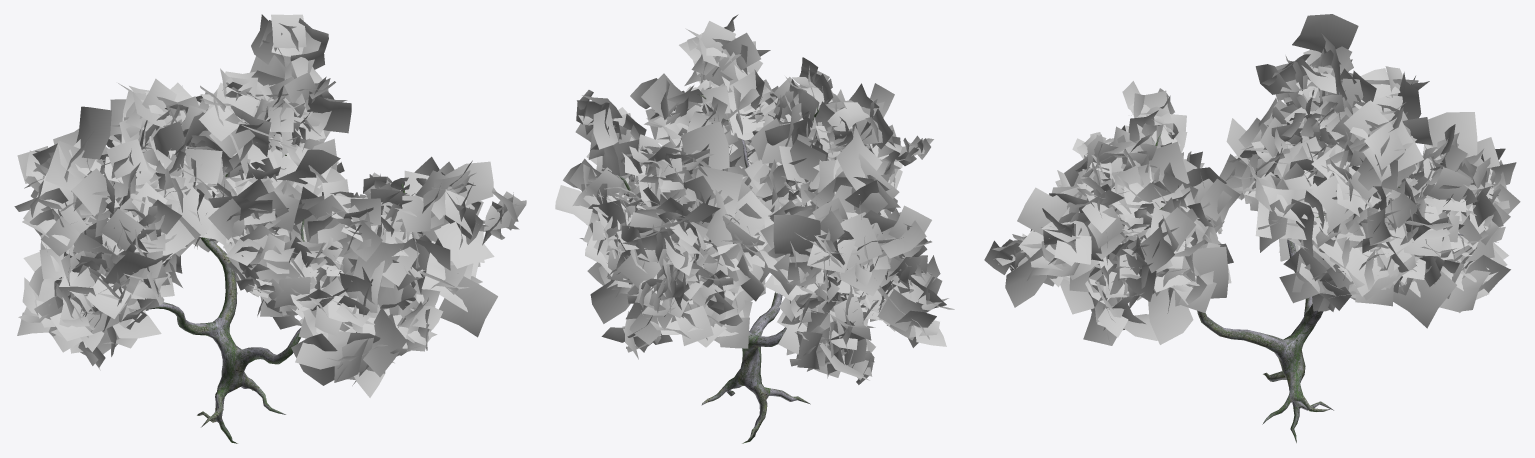
File: Tree20.fbx
3 views of the same model, side by side, from view 1: azimuth 30°, elevation 25°; view 2: azimuth 150°, elevation 25°; view 3: azimuth 270°, elevation 25° (orthographic). The views are drawn at different scales.
Parts seen in each view (by area): view 1: tree20, tree20|branch20-2|Dupli|7, tree20|branch20-3|Dupli|74, tree20|branch20-3|Dupli|77, tree20|branch20-3|Dupli|26, tree20|branch20-3|Dupli|128, tree20|branch20-2|Dupli|124, tree20|branch20-1|Dupli|96, tree20|branch20-2|Dupli|139, tree20|branch20-2|Dupli|52, tree20|branch20-2|Dupli|34, tree20|branch20-3|Dupli|2 (+51 smaller); view 2: tree20|branch20-3|Dupli|125, tree20|branch20-3|Dupli|128, tree20, tree20|branch20-1|Dupli|75, tree20|branch20-1|Dupli|96, tree20|branch20-2|Dupli|7, tree20|branch20-2|Dupli|106, tree20|branch20-1|Dupli|114, tree20|branch20-3|Dupli|116, tree20|branch20-2|Dupli|100, tree20|branch20-3|Dupli|158, tree20|branch20-2|Dupli|67 (+63 smaller); view 3: tree20, tree20|branch20-2|Dupli|7, tree20|branch20-3|Dupli|170, tree20|branch20-3|Dupli|128, tree20|branch20-3|Dupli|8, tree20|branch20-2|Dupli|79, tree20|branch20-2|Dupli|169, tree20|branch20-3|Dupli|74, tree20|branch20-1|Dupli|63, tree20|branch20-1|Dupli|75, tree20|branch20-1|Dupli|96, tree20|branch20-2|Dupli|124 (+55 smaller).
Boxes of the visible parts, x1,y1,x2,y2 form: tree20: [146, 154, 404, 443]; tree20|branch20-2|Dupli|7: [250, 14, 328, 83]; tree20|branch20-3|Dupli|74: [412, 238, 497, 337]; tree20|branch20-3|Dupli|77: [434, 161, 494, 268]; tree20|branch20-3|Dupli|26: [291, 307, 406, 385]; tree20|branch20-3|Dupli|128: [45, 106, 111, 218]; tree20|branch20-2|Dupli|124: [71, 139, 148, 216]; tree20|branch20-1|Dupli|96: [208, 191, 312, 239]; tree20|branch20-2|Dupli|139: [168, 149, 223, 247]; tree20|branch20-2|Dupli|52: [22, 172, 89, 256]; tree20|branch20-2|Dupli|34: [226, 224, 300, 303]; tree20|branch20-3|Dupli|2: [321, 242, 404, 316]; tree20|branch20-3|Dupli|125: [773, 212, 882, 272]; tree20|branch20-3|Dupli|128: [811, 125, 900, 219]; tree20: [618, 94, 852, 443]; tree20|branch20-1|Dupli|75: [691, 21, 762, 91]; tree20|branch20-1|Dupli|96: [815, 83, 894, 157]; tree20|branch20-2|Dupli|7: [575, 90, 622, 175]; tree20|branch20-2|Dupli|106: [778, 297, 864, 369]; tree20|branch20-1|Dupli|114: [871, 278, 946, 346]; tree20|branch20-3|Dupli|116: [837, 220, 926, 296]; tree20|branch20-2|Dupli|100: [762, 130, 828, 204]; tree20|branch20-3|Dupli|158: [555, 167, 634, 225]; tree20|branch20-2|Dupli|67: [621, 224, 710, 279]; tree20: [1155, 92, 1463, 442]; tree20|branch20-2|Dupli|7: [1357, 107, 1432, 201]; tree20|branch20-3|Dupli|170: [1247, 159, 1324, 259]; tree20|branch20-3|Dupli|128: [1292, 14, 1358, 102]; tree20|branch20-3|Dupli|8: [1017, 187, 1091, 266]; tree20|branch20-2|Dupli|79: [1119, 197, 1195, 288]; tree20|branch20-2|Dupli|169: [1312, 224, 1415, 300]; tree20|branch20-3|Dupli|74: [1005, 230, 1099, 307]; tree20|branch20-1|Dupli|63: [1279, 212, 1351, 310]; tree20|branch20-1|Dupli|75: [1077, 160, 1124, 264]; tree20|branch20-1|Dupli|96: [1122, 81, 1187, 153]; tree20|branch20-2|Dupli|124: [1255, 54, 1342, 100].
Bounding box in the file's own units: 1928 × 1742 × 2233.
